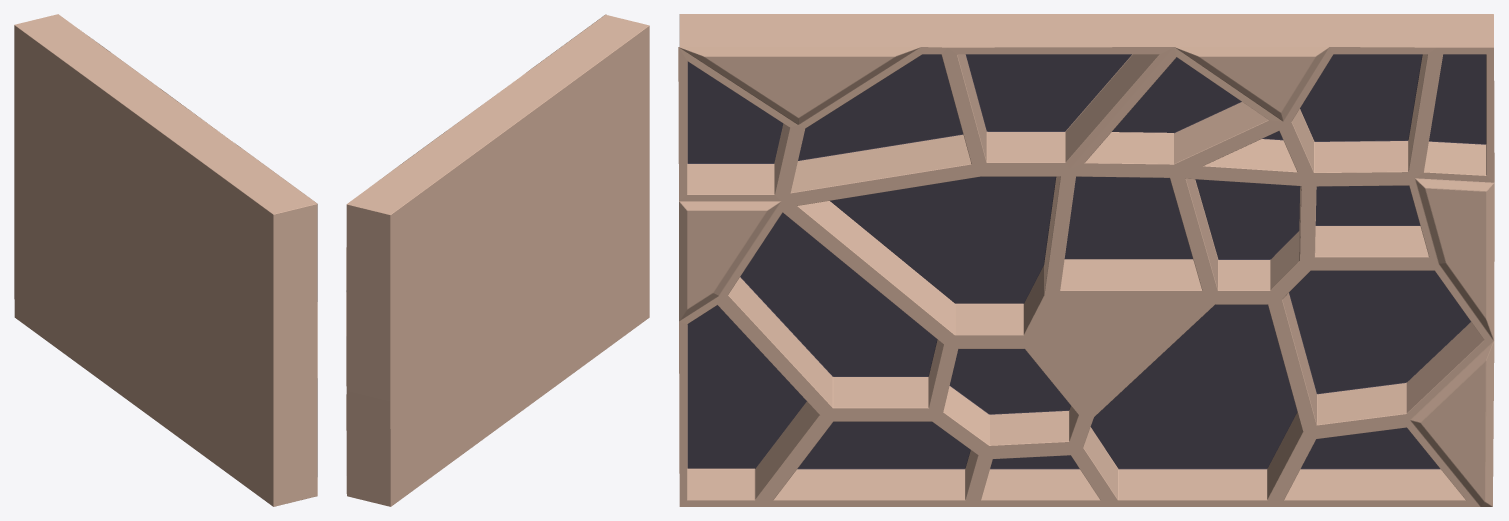
Rendered from shkaf.fbx.
3 renders of one model, left to right at view 1: azimuth 30°, elevation 25°; view 2: azimuth 150°, elevation 25°; view 3: azimuth 270°, elevation 25°, orthographic. The views are drawn at different scales.
Visible parts, largest first — view 1: Plane_cell.028; view 2: Plane_cell.028; view 3: Plane_cell.028.
Boxes of the visible parts, <box> form: Plane_cell.028: <box>14,14,317,506</box>; Plane_cell.028: <box>346,14,649,506</box>; Plane_cell.028: <box>678,14,1494,506</box>.
Size of the model in its own units: 33.13 by 198 by 319.
